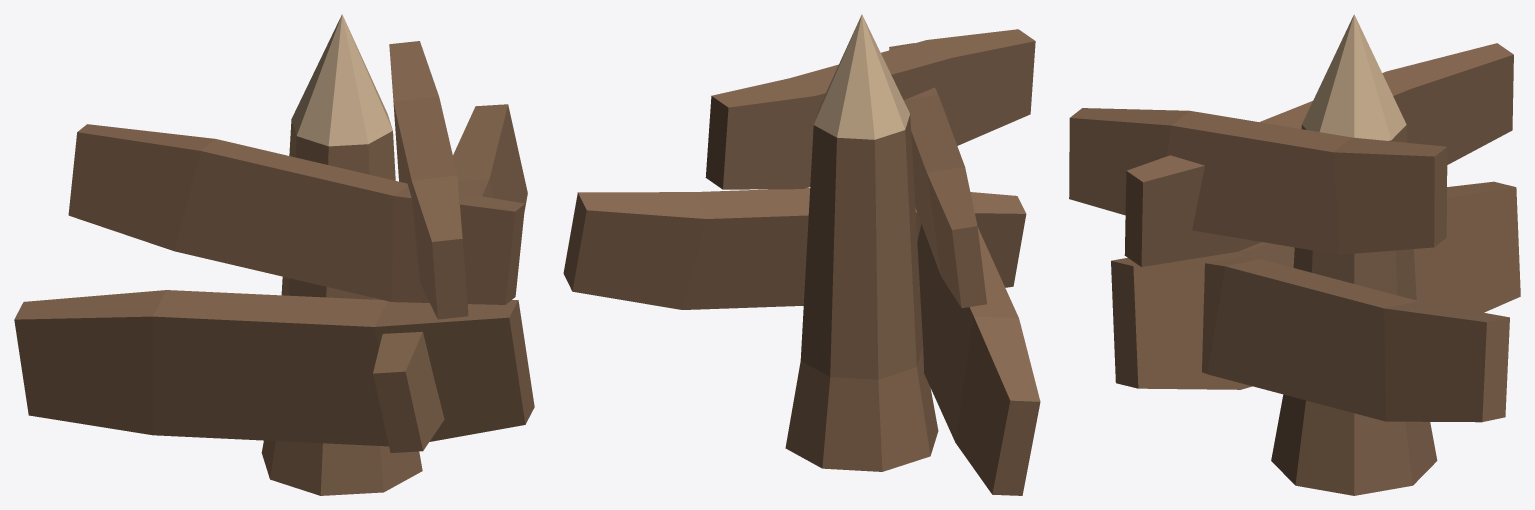
Rendered from Fence.fbx.
The picture shows the model from 3 angles, left to right: view 1: azimuth 30°, elevation 25°; view 2: azimuth 150°, elevation 25°; view 3: azimuth 270°, elevation 25°; orthographic projection. The views are drawn at different scales.
Parts seen in each view (by area): view 1: Cube.005; view 2: Cube.005; view 3: Cube.005.
Part boxes in pixels (left/top/right/bottom): Cube.005: left=14, top=14, right=534, bottom=495; Cube.005: left=563, top=14, right=1040, bottom=495; Cube.005: left=1069, top=14, right=1520, bottom=495.
Bounding box in the file's own units: 128 × 108 × 98.5.
